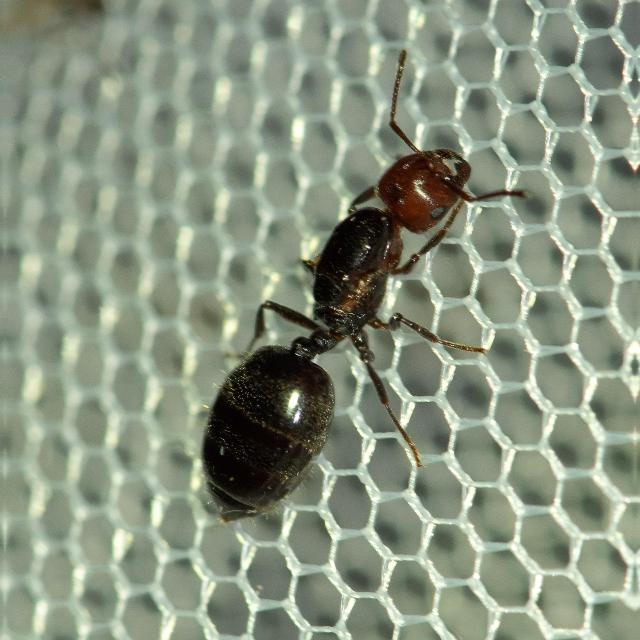Crematogaster: (182, 106, 473, 554)
